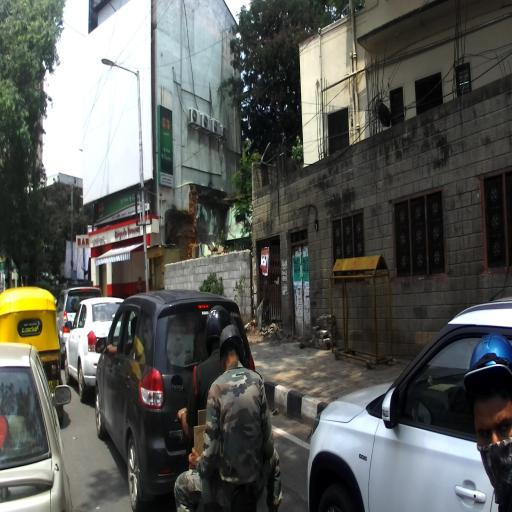street_light_0: (102, 58, 140, 80)
